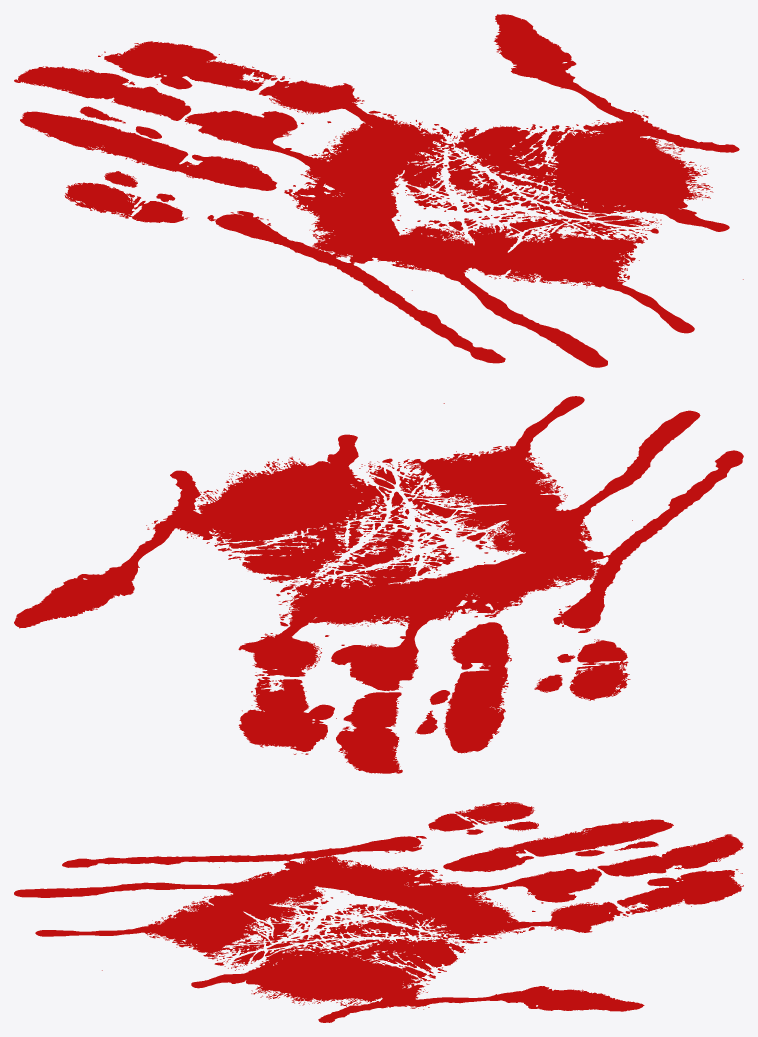
Rendered from handprint.fbx.
The picture shows the model from 3 angles, top to bottom: view 1: azimuth 30°, elevation 25°; view 2: azimuth 150°, elevation 25°; view 3: azimuth 270°, elevation 25°; orthographic projection. The views are drawn at different scales.
Visible parts, largest first — view 1: path0; view 2: path0; view 3: path0.
Boxes of the visible parts, box(x1,y1,x2,y2) form: path0: box(14, 14, 743, 367); path0: box(14, 396, 743, 773); path0: box(14, 802, 743, 1022).
Size of the model in its own units: 11.28 by 2.57e-06 by 15.77.
